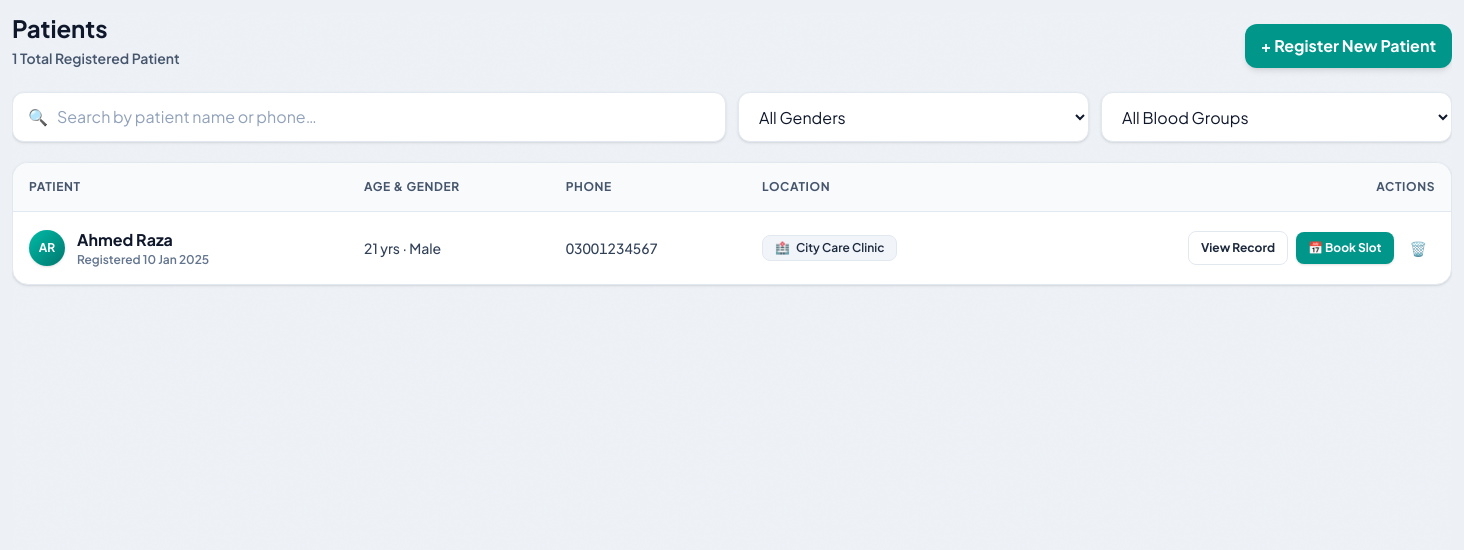
it: PatientsPage directory › filters the loaded rows client side and reports the visible count
Select "Female" in the dropdown named "Filter by gender" at (914, 117), box [738, 92, 1089, 142]
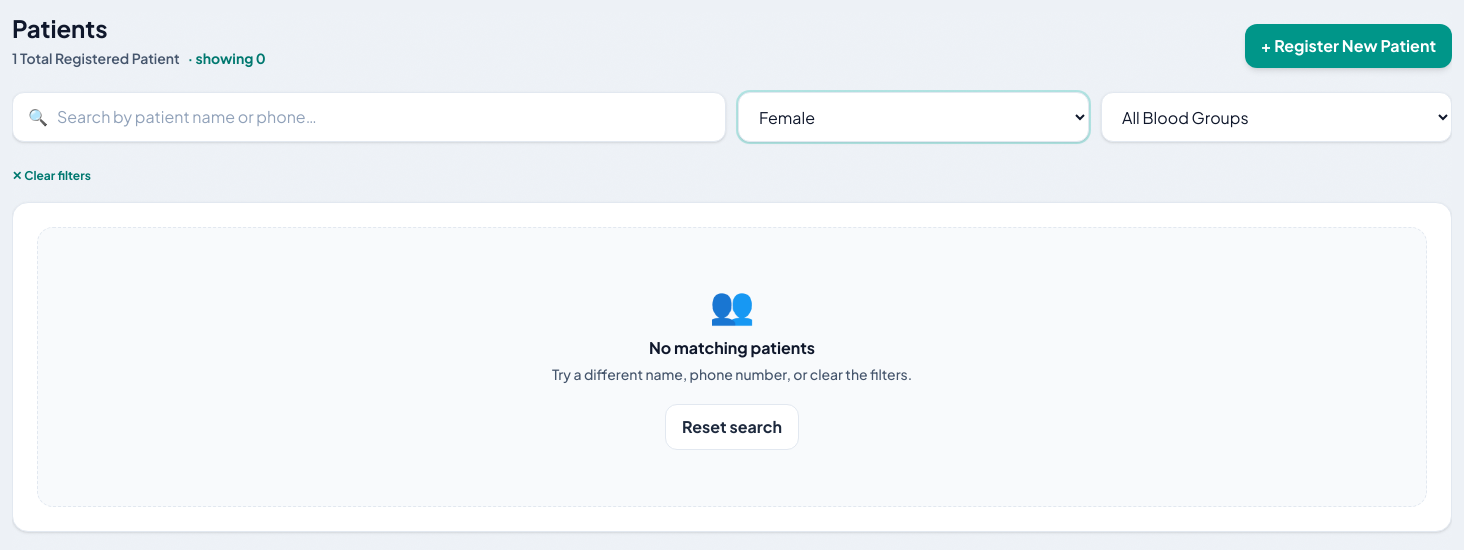
Expected: the text "No matching patients" is shown, [649, 337, 815, 358]
Expected: the text "· showing 0" is shown, [188, 49, 266, 67]
